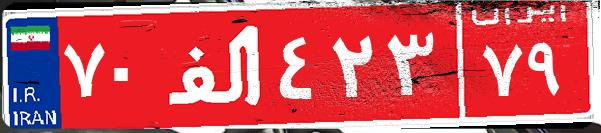0: (110, 28, 158, 105)
2: (330, 28, 385, 110)
3: (385, 28, 445, 110)
4: (273, 28, 330, 110)
7: (57, 26, 110, 107), (475, 38, 525, 113)
9: (525, 38, 570, 115)
الف: (158, 15, 273, 115)
